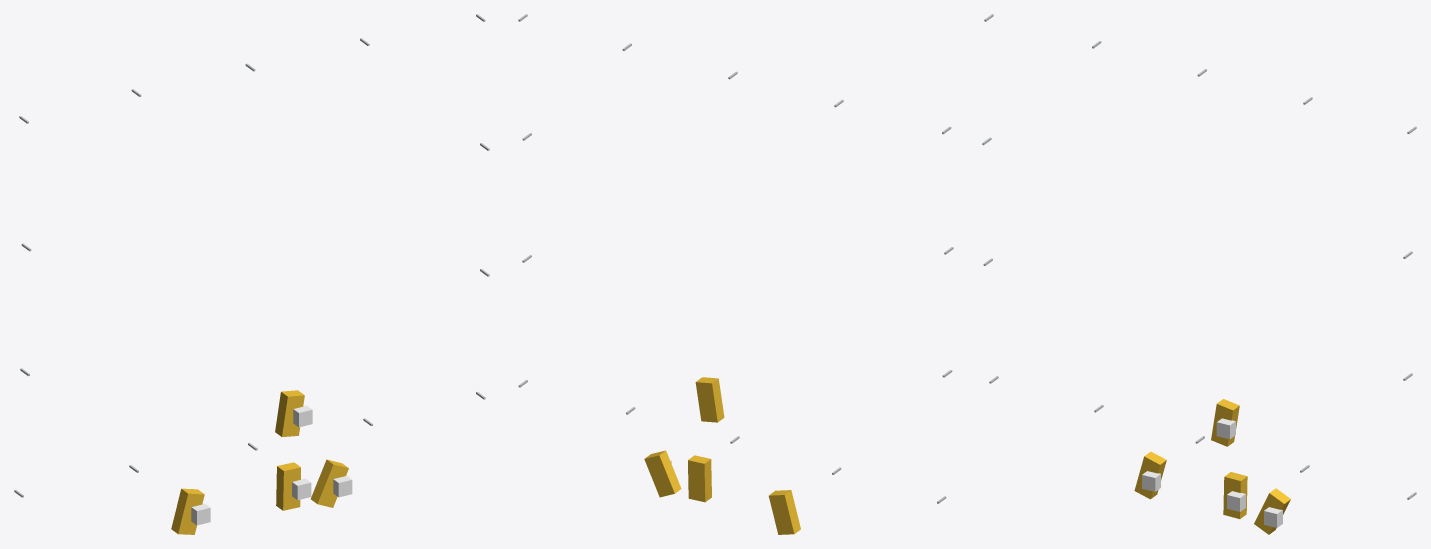
File: compact_highrise_clean.glb
3 renders of one model, left to right at view 1: azimuth 30°, elevation 25°; view 2: azimuth 150°, elevation 25°; view 3: azimuth 330°, elevation 25°, orthographic. The views are drawn at different scales.
Visible parts, largest first — view 1: SM_Vehicle_14_body, SM_Vehicle_09_body, SM_Vehicle_04_body, SM_Vehicle_19_body; view 2: SM_Vehicle_14_body, SM_Vehicle_04_body, SM_Vehicle_09_body, SM_Vehicle_19_body; view 3: SM_Vehicle_19_body, SM_Vehicle_04_body, SM_Vehicle_14_body, SM_Vehicle_09_body.
Part boxes in pixels (x1,y1,x2,y2): SM_Vehicle_14_body: [171, 488, 204, 534]; SM_Vehicle_09_body: [311, 459, 348, 507]; SM_Vehicle_04_body: [275, 390, 304, 436]; SM_Vehicle_19_body: [276, 462, 300, 510]; SM_Vehicle_14_body: [768, 490, 800, 534]; SM_Vehicle_04_body: [695, 377, 724, 422]; SM_Vehicle_09_body: [644, 450, 681, 497]; SM_Vehicle_19_body: [688, 455, 711, 502]; SM_Vehicle_19_body: [1223, 472, 1247, 518]; SM_Vehicle_04_body: [1211, 399, 1239, 446]; SM_Vehicle_14_body: [1134, 451, 1166, 499]; SM_Vehicle_09_body: [1254, 488, 1290, 534].
Size of the model in its own units: 130 by 127 by 14.54.
